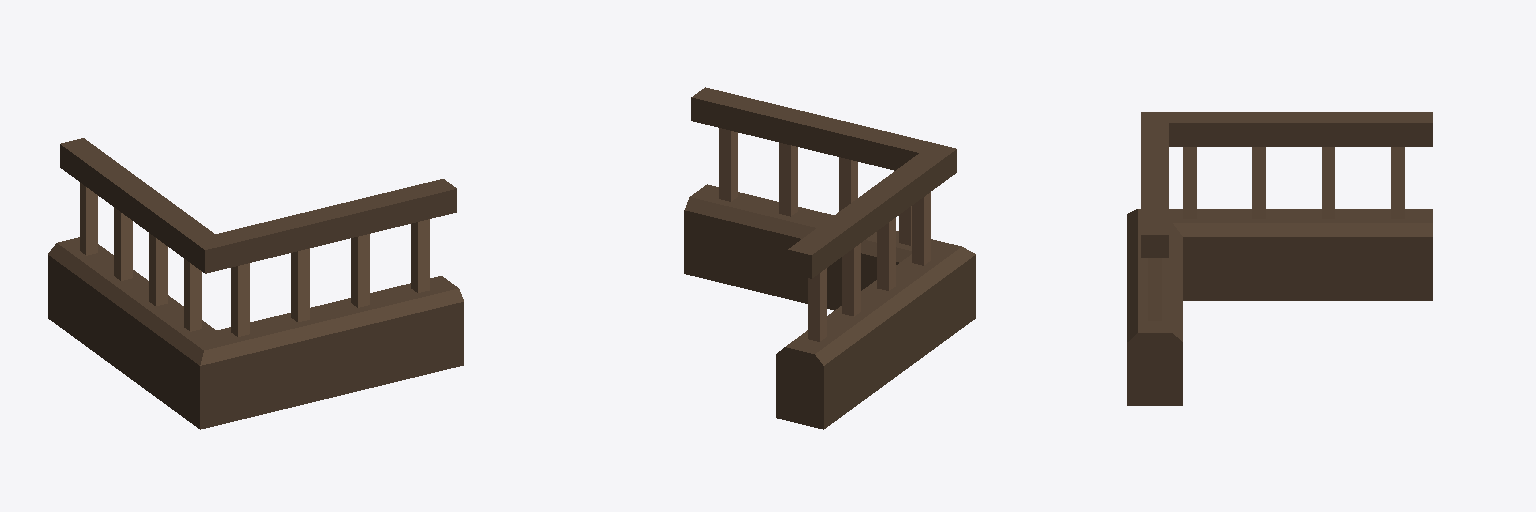
Rendered from Wood_Railing_Corner.obj.
3 renders of one model, left to right at view 1: azimuth 30°, elevation 25°; view 2: azimuth 150°, elevation 25°; view 3: azimuth 270°, elevation 25°, orthographic.
Visible parts, largest first — view 1: object10, object2, object6, object7, object8, object3, object5, object4, object1, object9; view 2: object10, object2, object6, object8, object1, object9, object4, object5, object7; view 3: object10, object2, object1, object4, object9, object5, object8.
Part boxes in pixels (x1,y1,x2,y2): object10: (48, 237, 463, 429); object2: (60, 138, 456, 273); object6: (351, 234, 369, 307); object7: (291, 248, 309, 321); object8: (411, 219, 429, 292); object3: (231, 263, 249, 336); object5: (114, 207, 132, 280); object4: (149, 233, 167, 305); object1: (80, 183, 97, 255); object9: (184, 259, 201, 331); object10: (684, 184, 975, 429); object2: (691, 87, 956, 278); object6: (779, 143, 797, 216); object8: (719, 128, 737, 201); object1: (808, 268, 826, 341); object9: (912, 192, 930, 265); object4: (877, 218, 895, 290); object5: (842, 243, 860, 316); object7: (839, 157, 857, 211); object10: (1127, 209, 1432, 405); object2: (1141, 112, 1432, 257); object1: (1391, 147, 1404, 218); object4: (1252, 147, 1265, 218); object9: (1183, 147, 1196, 218); object5: (1322, 147, 1334, 218); object8: (1148, 258, 1161, 320).
Size of the model in its own units: 1.1 by 0.6826 by 1.1.